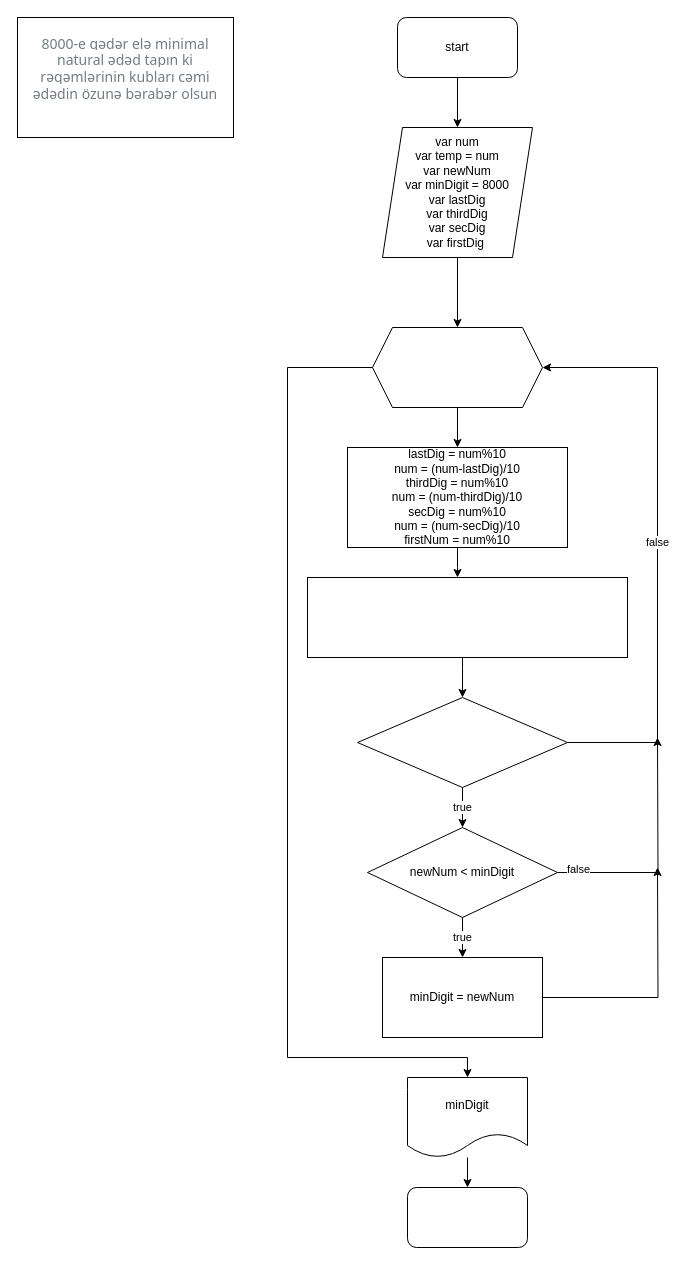
This 686x1265 diagram has some shape labels left out. The box of each missing label's shape, as (x1, y1, x2, y2) in pixels:
end: (406, 1186, 528, 1248)
i = 1; i<8000; i++: (372, 326, 542, 408)
newNum = lastDig^3+thirdDig^3+secDig^3+firstDig^3: (306, 576, 628, 658)
newNum==temp: (356, 696, 568, 788)
